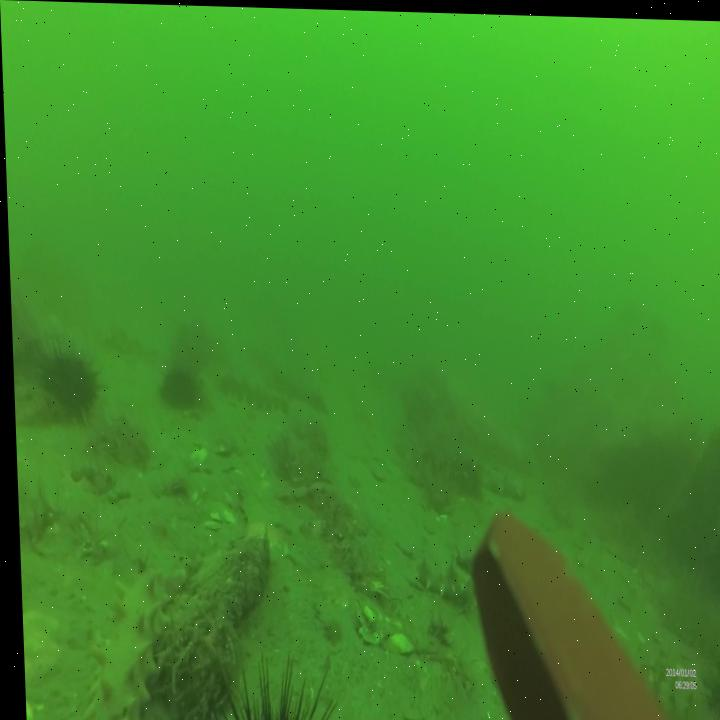echinus: (201, 652, 339, 720), (37, 339, 100, 419), (153, 360, 196, 411)
holothurian: (76, 559, 187, 717), (405, 547, 466, 609), (218, 362, 289, 415), (476, 454, 524, 499)
